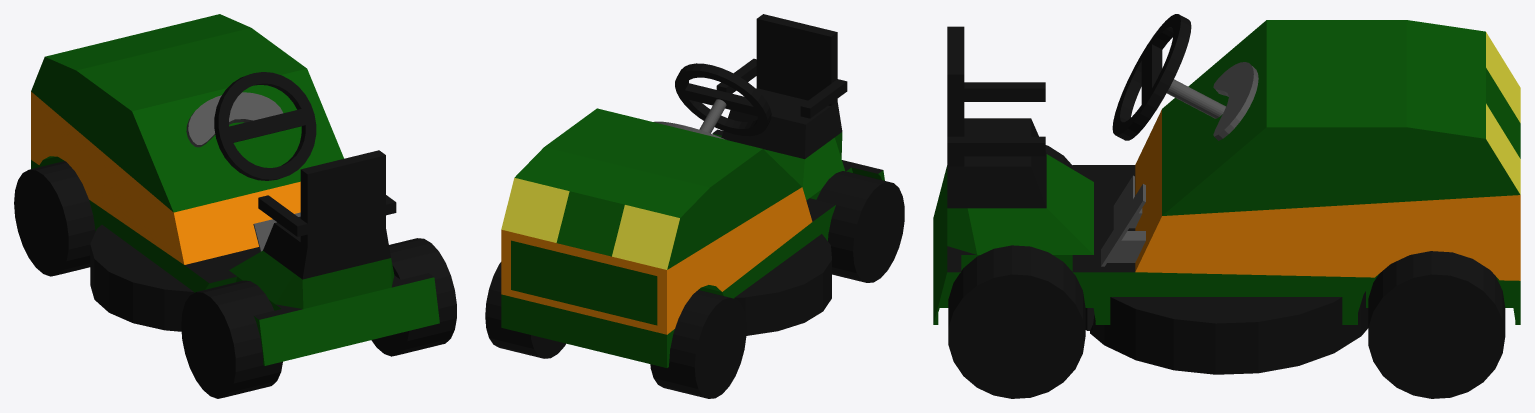
File: mower_colored.fbx
3 views of the same model, side by side, from view 1: azimuth 30°, elevation 25°; view 2: azimuth 150°, elevation 25°; view 3: azimuth 270°, elevation 25° (orthographic). The views are drawn at different scales.
Parts seen in each view (by area): view 1: Cylinder.006; view 2: Cylinder.006; view 3: Cylinder.006.
Boxes of the visible parts, x1=… form: Cylinder.006: x1=14, y1=14, x2=456, y2=398; Cylinder.006: x1=485, y1=14, x2=904, y2=398; Cylinder.006: x1=933, y1=14, x2=1520, y2=398.
Bounding box in the file's own units: 276 × 249 × 426.
